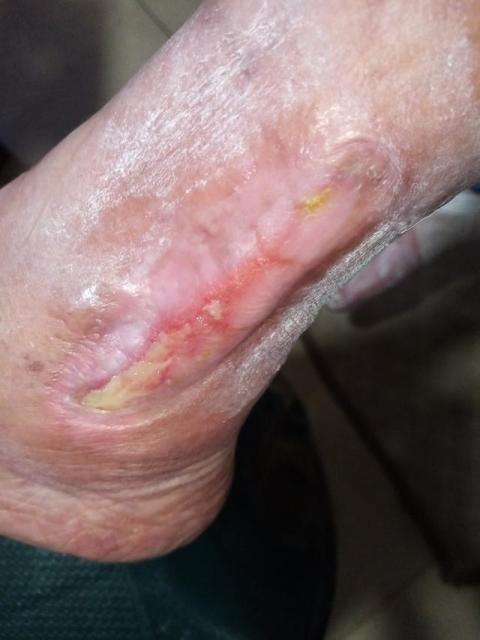wound: (54, 140, 400, 421)
